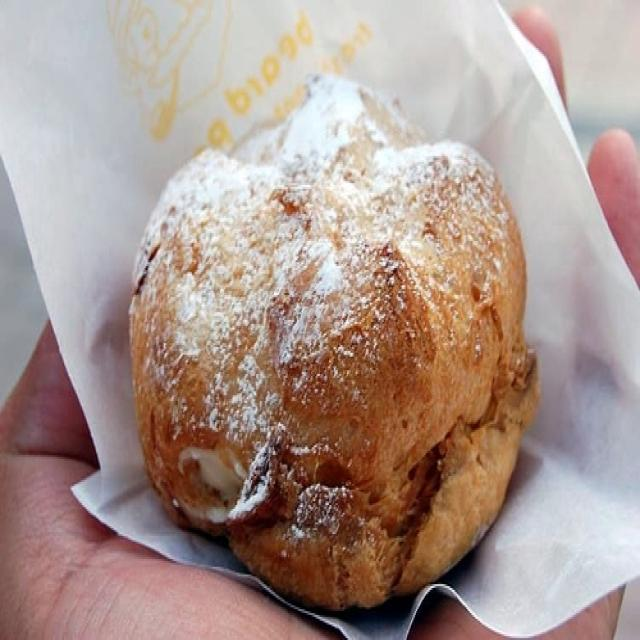炸货点心: (68, 39, 571, 628)
蛋糕甜品: (68, 39, 571, 628)
